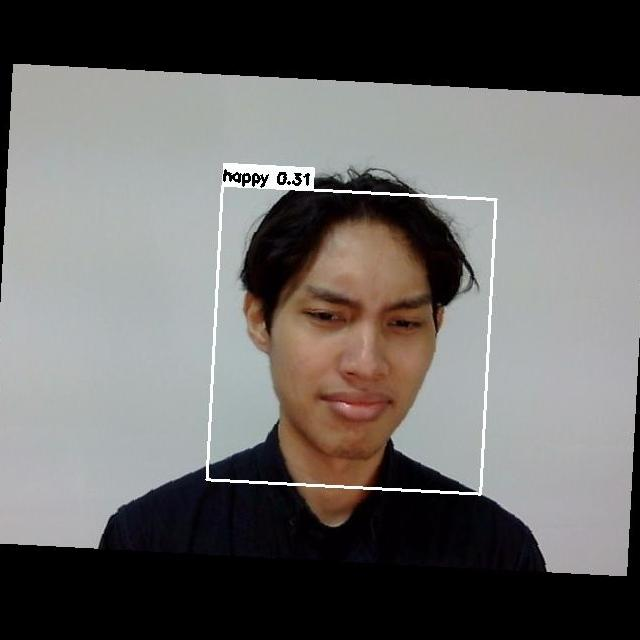Disgust: (264, 263, 446, 445)
